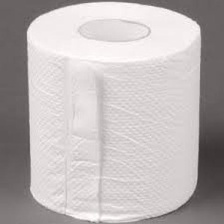tissue: (19, 0, 208, 224)
